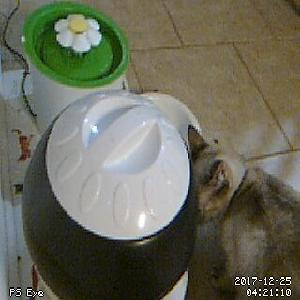cat: (186, 123, 300, 300)
fountain: (21, 3, 130, 89)
